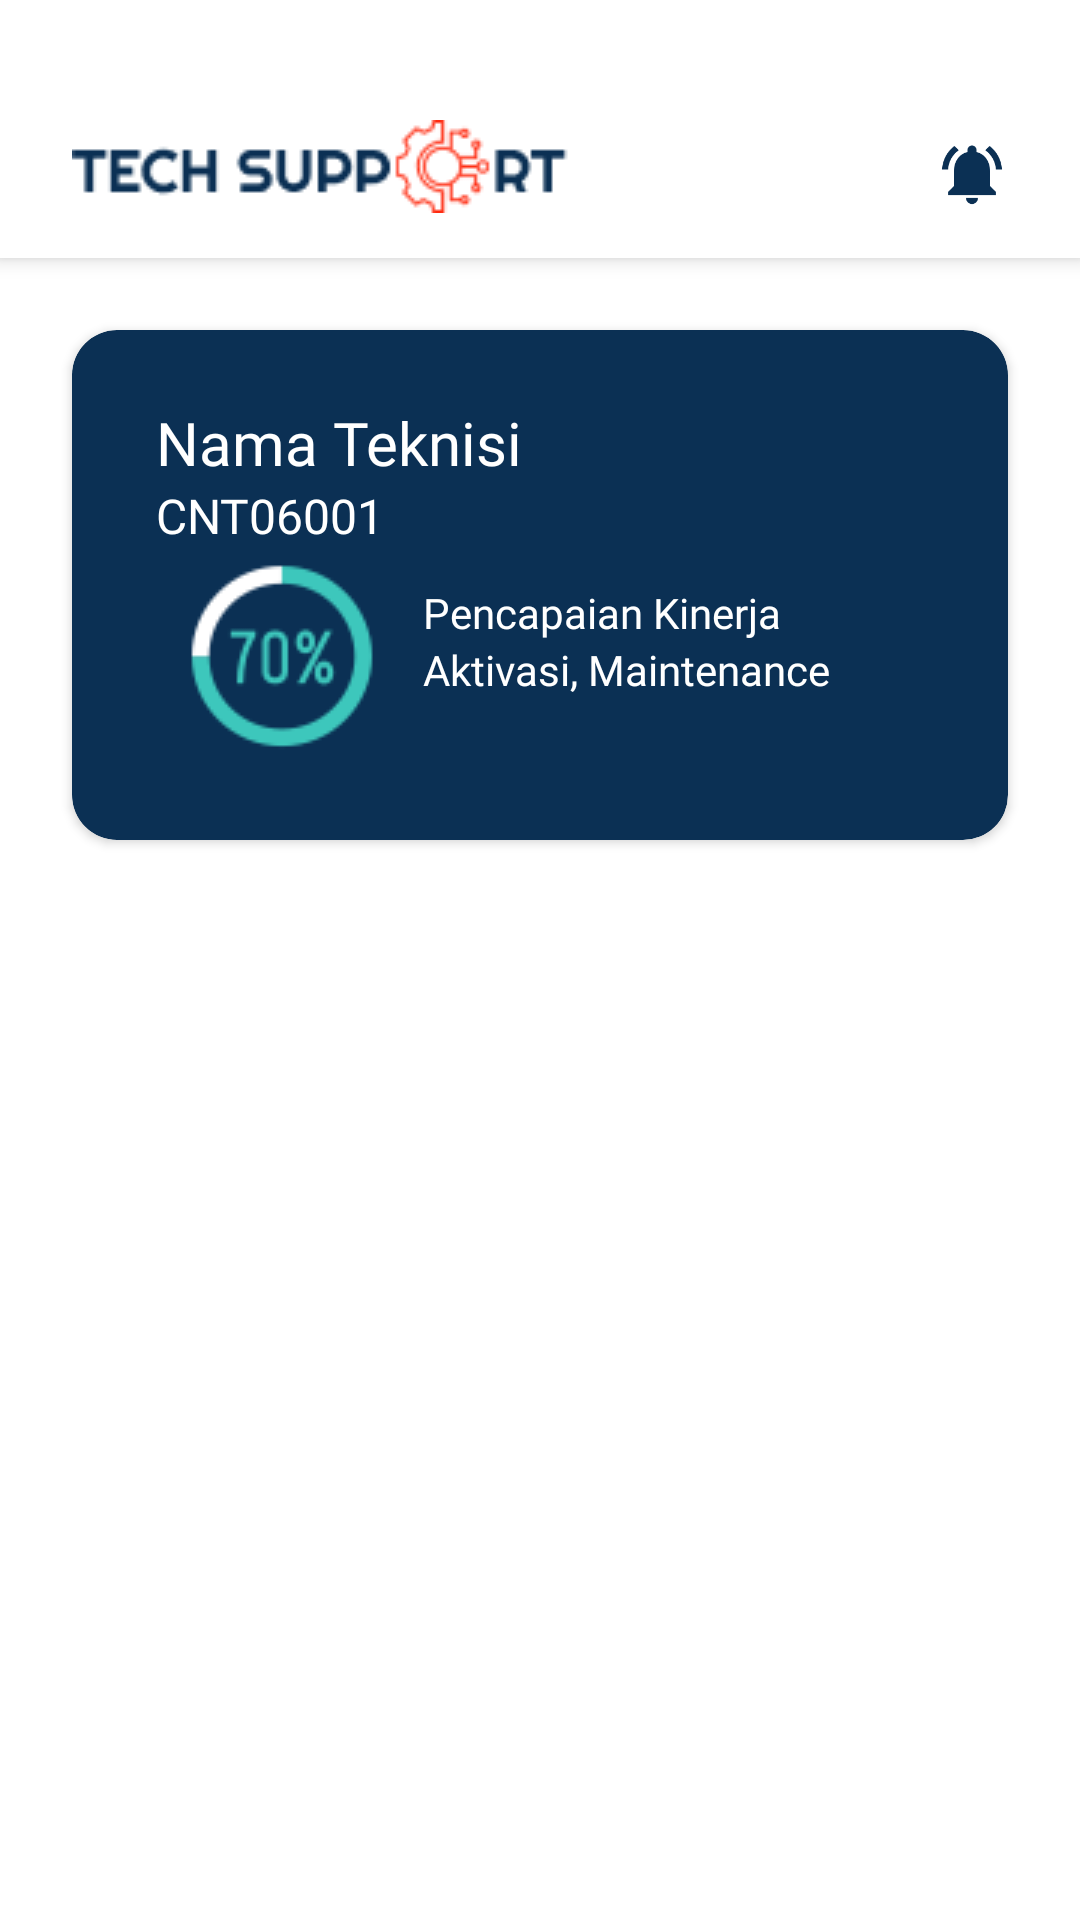

Named icons in this screenshot (1080w x 1920h) and their centers, [x,y]:
notif: [972,174]
percentage: [282,656]
